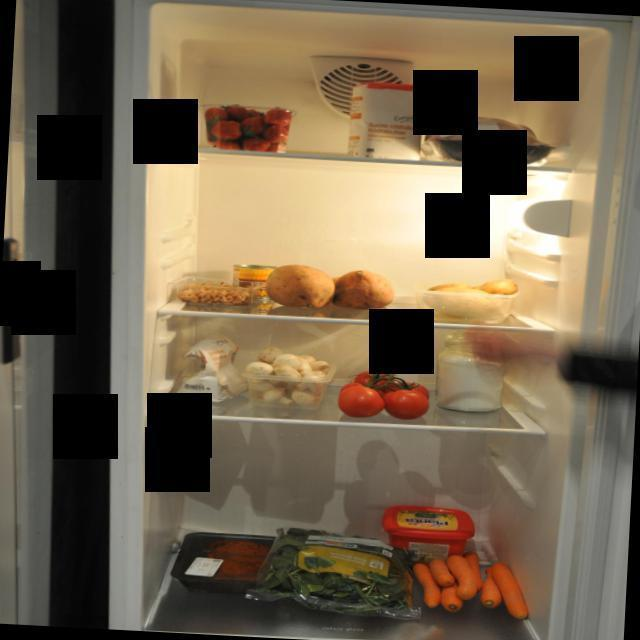beef: (169, 530, 291, 598)
butter: (379, 502, 479, 570)
carrot: (397, 543, 538, 621)
chicken: (412, 105, 555, 165)
corn: (231, 262, 280, 304)
flour: (177, 328, 254, 417)
mushrooms: (236, 344, 333, 408)
potato: (422, 273, 523, 319)
shrimp: (172, 280, 262, 308)
spinach: (248, 523, 423, 621)
strawberries: (192, 100, 298, 158)
sugar: (434, 327, 508, 415), (349, 80, 425, 160)
sweet_potato: (264, 264, 400, 313)
tomato: (329, 360, 438, 426)
